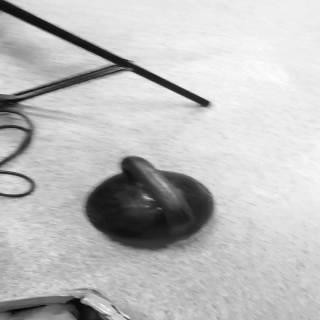kettlebell: (78, 156, 212, 246)
